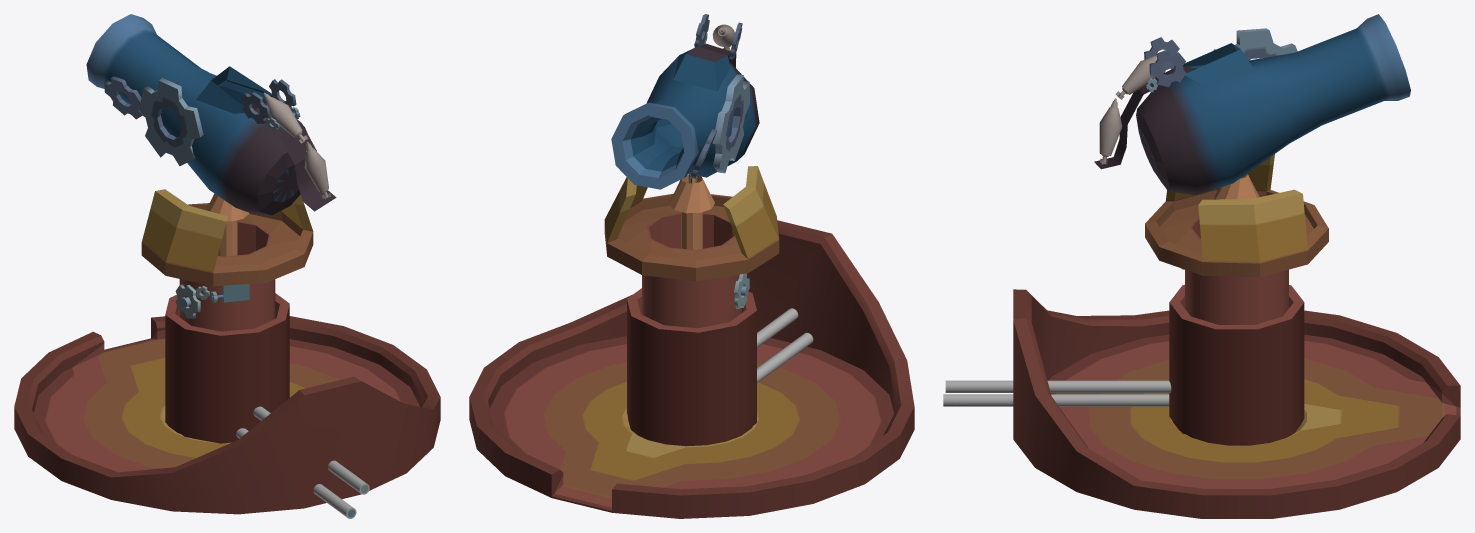
The model's file is Mortar.fbx.
3 views of the same model, side by side, from view 1: azimuth 30°, elevation 25°; view 2: azimuth 150°, elevation 25°; view 3: azimuth 270°, elevation 25° (orthographic). The views are drawn at different scales.
Parts seen in each view (by area): view 1: Floor, Mortar, Stand, Outer_Shell, Hole (×2), Stabiliser_Pole, Missile0, Missile1; view 2: Floor, Stand, Outer_Shell, Mortar, Stabiliser_Pole, Hole (×2); view 3: Floor, Mortar, Stand, Outer_Shell, Hole (×2), Missile1, Stabiliser_Pole, Missile0.
Part boxes in pixels (x1=…): Floor: x1=14, y1=316, x2=440, y2=514; Mortar: x1=86, y1=14, x2=336, y2=215; Stand: x1=141, y1=189, x2=313, y2=331; Outer_Shell: x1=165, y1=293, x2=289, y2=443; Hole (×2): x1=236, y1=406, x2=369, y2=518; Stabiliser_Pole: x1=206, y1=193, x2=249, y2=256; Missile0: x1=263, y1=92, x2=308, y2=143; Missile1: x1=304, y1=141, x2=331, y2=199; Floor: x1=469, y1=220, x2=914, y2=518; Stand: x1=604, y1=166, x2=779, y2=328; Outer_Shell: x1=627, y1=288, x2=756, y2=446; Mortar: x1=611, y1=14, x2=759, y2=189; Stabiliser_Pole: x1=669, y1=175, x2=714, y2=249; Hole (×2): x1=757, y1=308, x2=813, y2=382; Floor: x1=1013, y1=289, x2=1460, y2=518; Mortar: x1=1094, y1=14, x2=1410, y2=194; Stand: x1=1145, y1=154, x2=1328, y2=324; Outer_Shell: x1=1169, y1=285, x2=1304, y2=445; Hole (×2): x1=943, y1=380, x2=1171, y2=406; Missile1: x1=1099, y1=98, x2=1122, y2=164; Stabiliser_Pole: x1=1214, y1=173, x2=1259, y2=199; Missile0: x1=1115, y1=55, x2=1157, y2=99.
Bounding box in the file's own units: 6.63 × 6.71 × 7.66.
